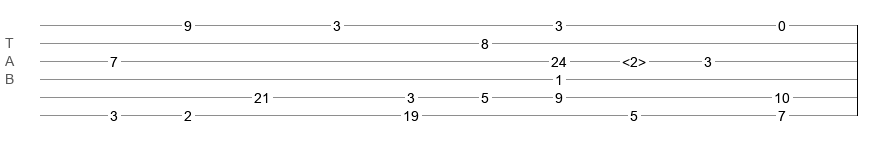0: (778, 18, 786, 28)
1: (555, 72, 563, 82)
10: (774, 90, 790, 100)
19: (403, 108, 419, 118)
2: (184, 108, 192, 118)
21: (254, 90, 270, 100)
24: (551, 54, 567, 64)
3: (110, 108, 118, 118), (333, 18, 341, 28), (407, 90, 415, 100), (555, 18, 563, 28), (704, 54, 712, 64)
5: (481, 90, 489, 100), (630, 108, 638, 118)
7: (110, 54, 118, 64), (778, 108, 786, 118)
8: (481, 36, 489, 46)
9: (184, 18, 192, 28), (555, 90, 563, 100)
harmonic: (622, 54, 646, 64)
